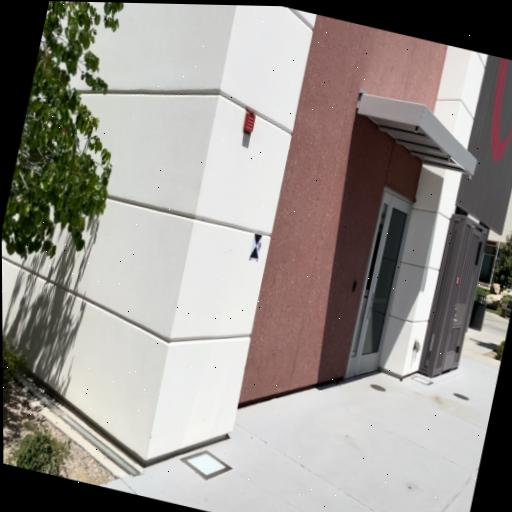target9: (249, 233, 262, 259)
